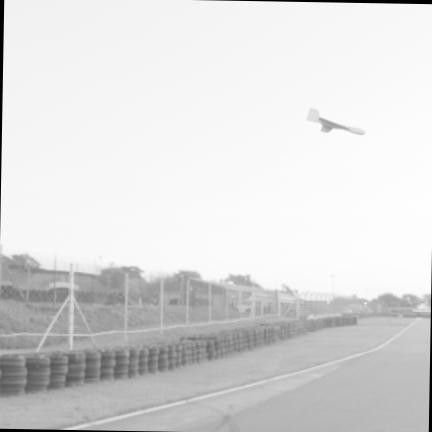Shahed: (305, 107, 365, 134)
